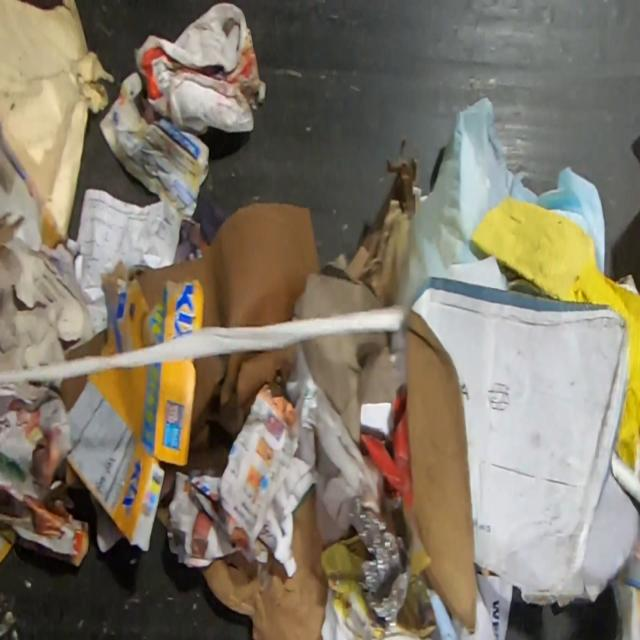cardboard: (404, 274, 640, 640), (64, 356, 198, 553), (130, 199, 320, 328), (200, 482, 326, 640), (188, 343, 297, 477), (300, 329, 400, 444), (99, 258, 205, 355), (347, 496, 410, 638), (292, 257, 382, 320), (65, 327, 107, 360), (58, 375, 88, 412)
